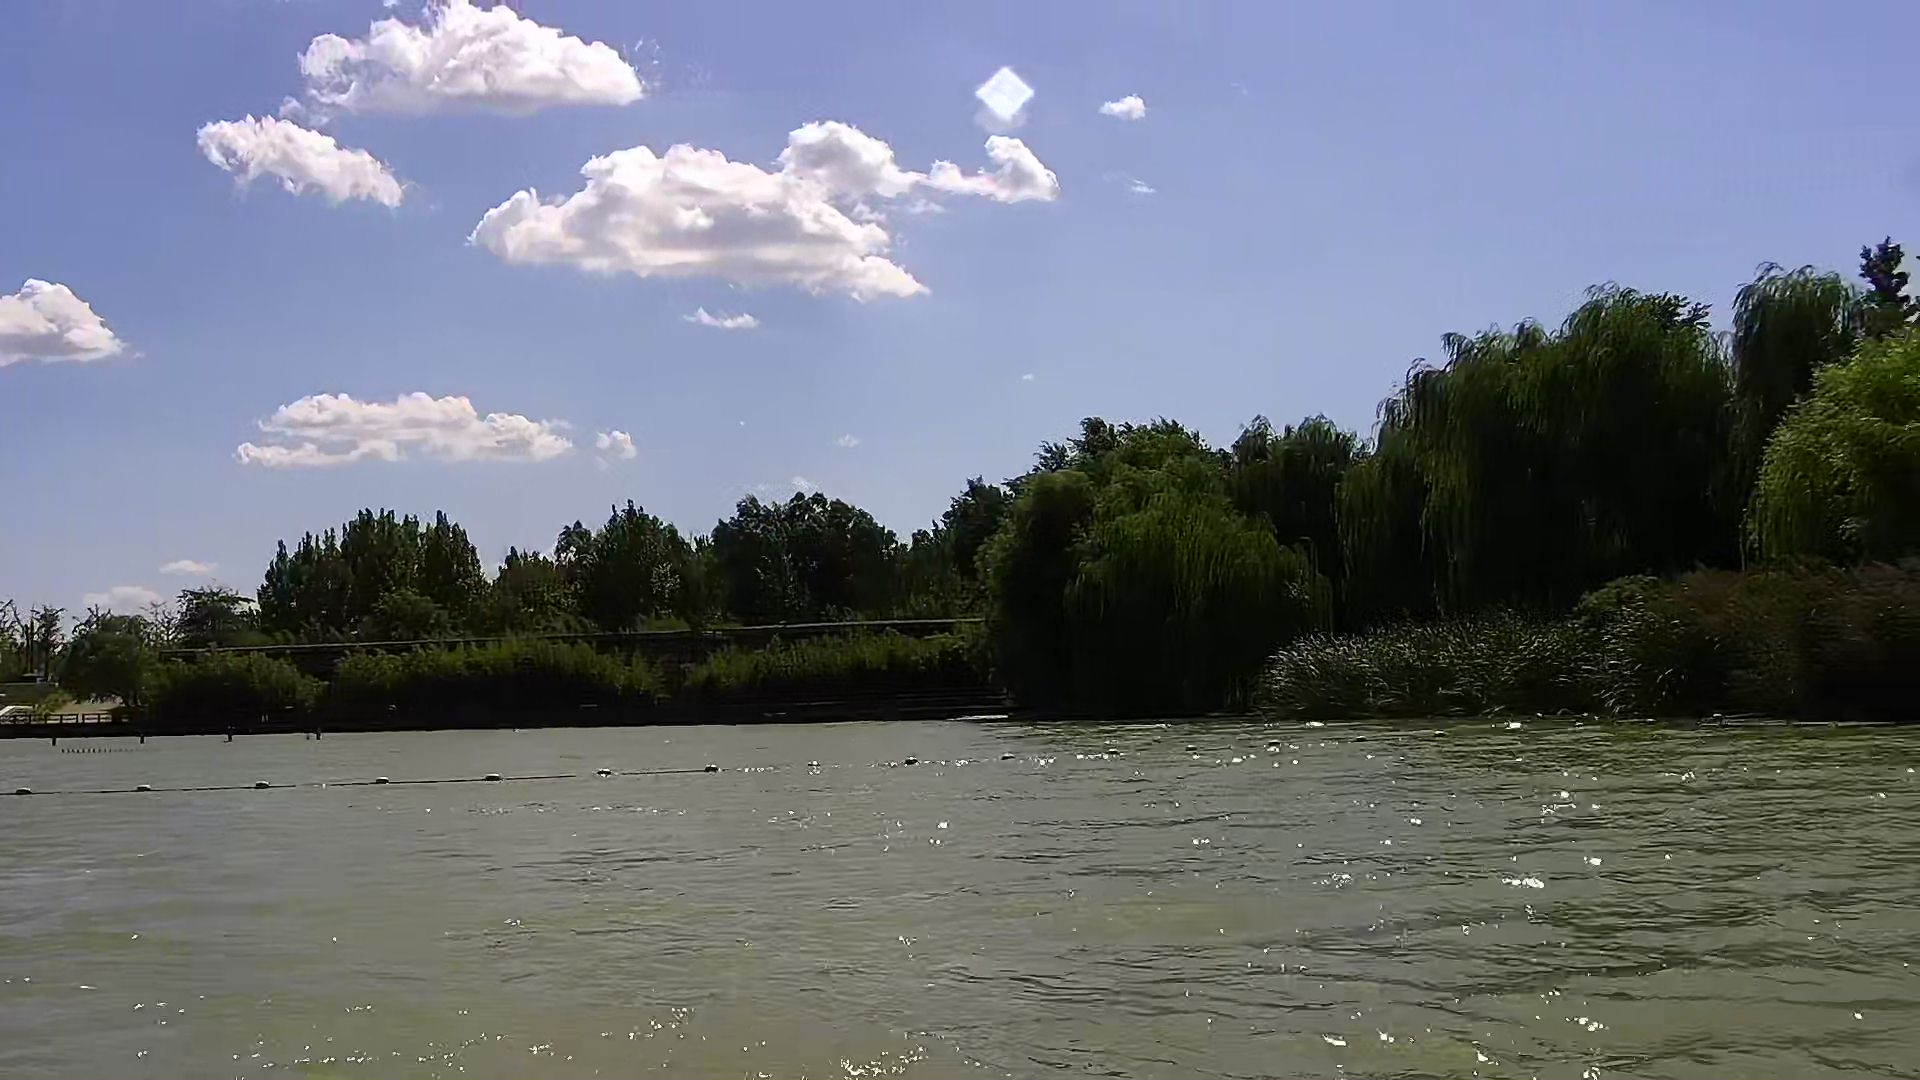ball: (694, 756, 729, 782), (247, 773, 277, 799), (129, 773, 156, 800), (899, 745, 924, 773), (368, 765, 390, 795), (481, 765, 506, 789), (15, 785, 36, 803)
harbor: (1, 686, 142, 740)
